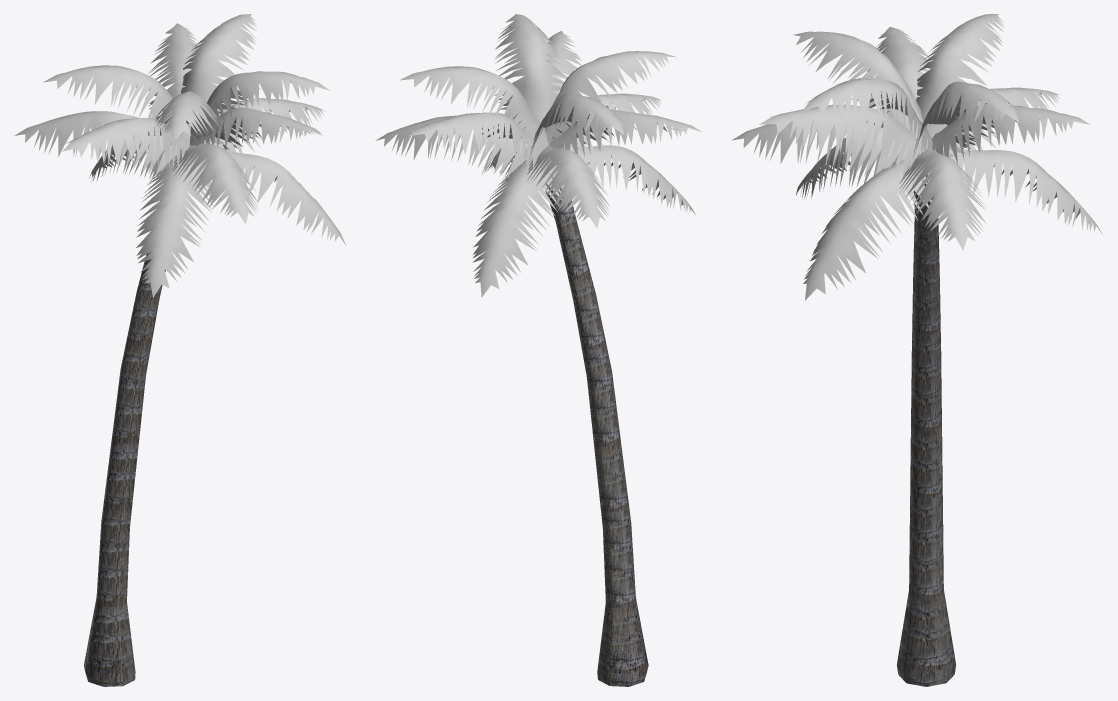
File: Palmtree.fbx
3 views of the same model, side by side, from view 1: azimuth 30°, elevation 25°; view 2: azimuth 150°, elevation 25°; view 3: azimuth 270°, elevation 25° (orthographic). The views are drawn at different scales.
Parts seen in each view (by area): view 1: palm_leaves; view 2: palm_leaves; view 3: palm_leaves.
Part boxes in pixels (<box>): palm_leaves: <box>14,14,346,686</box>; palm_leaves: <box>375,14,701,686</box>; palm_leaves: <box>731,14,1102,686</box>.
Size of the model in its own units: 1189 by 2281 by 1163.
